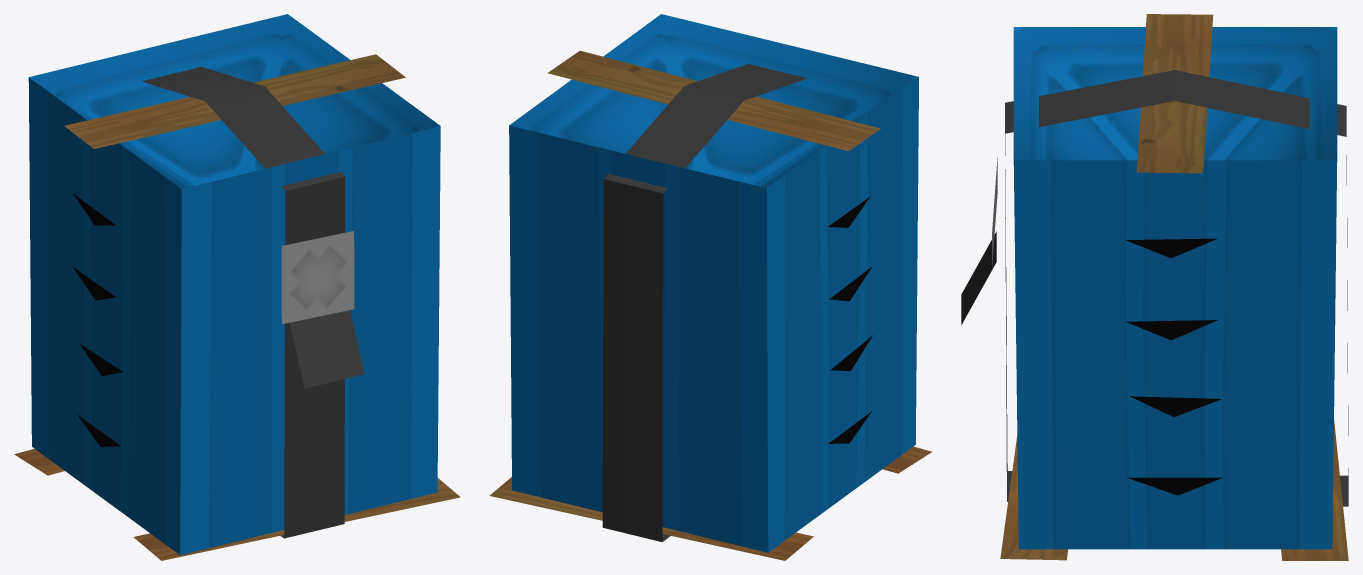
The model's file is obj_decor_basketstack_lod1.fbx.
3 views of the same model, side by side, from view 1: azimuth 30°, elevation 25°; view 2: azimuth 150°, elevation 25°; view 3: azimuth 270°, elevation 25° (orthographic). The views are drawn at different scales.
Parts seen in each view (by area): view 1: obj_decor_stackedbaskets_lod1; view 2: obj_decor_stackedbaskets_lod1; view 3: obj_decor_stackedbaskets_lod1.
Part boxes in pixels (x1,y1,x2,y2): obj_decor_stackedbaskets_lod1: (14,14,460,560); obj_decor_stackedbaskets_lod1: (489,14,932,560); obj_decor_stackedbaskets_lod1: (961,14,1348,560).
Bounding box in the file's own units: 4.26 × 5.05 × 4.37.
